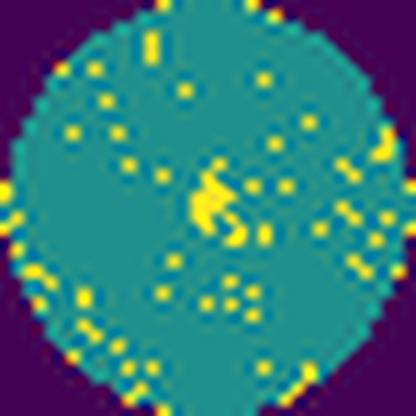Center: (189, 160, 252, 250)
